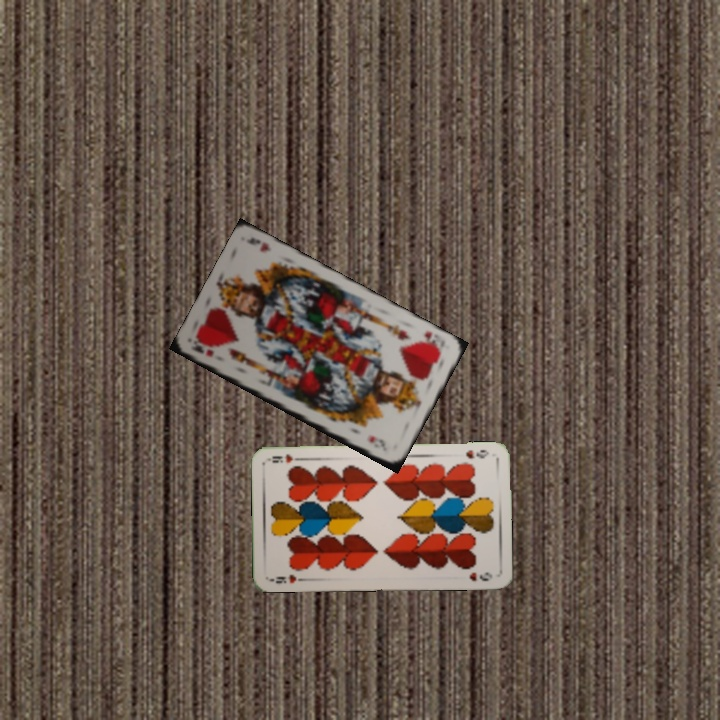H9: (267, 570, 308, 586), (462, 446, 491, 461)
HK: (415, 327, 444, 354), (187, 340, 217, 359)
